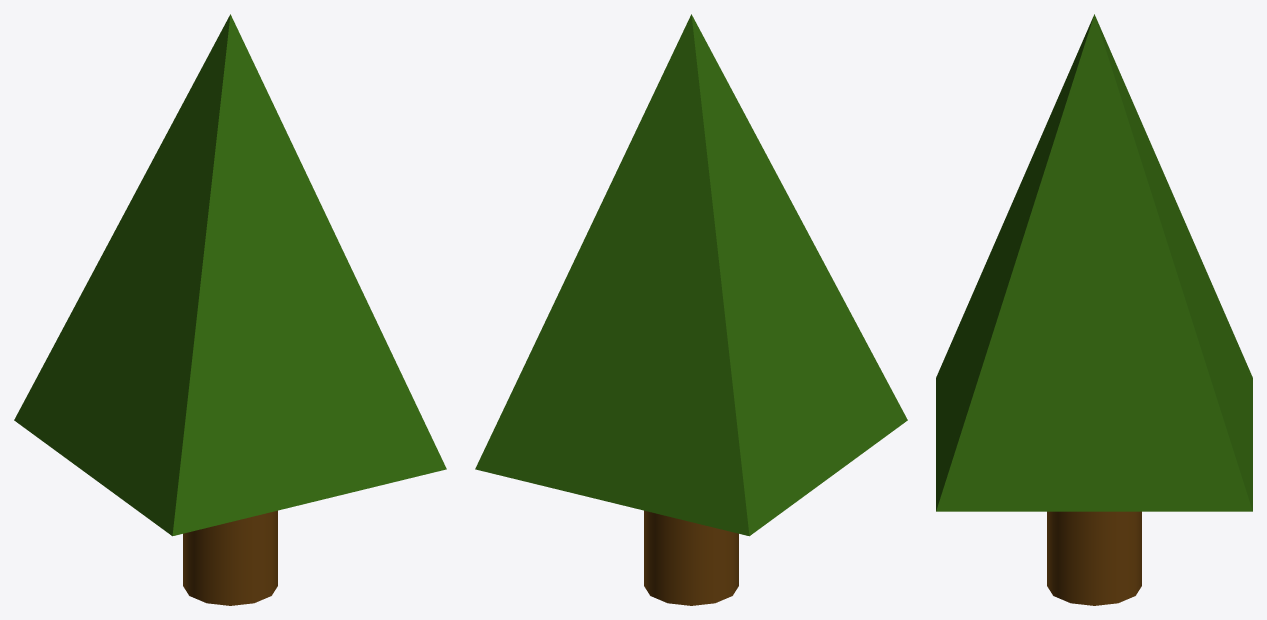
The model's file is tree.FBX.
3 renders of one model, left to right at view 1: azimuth 30°, elevation 25°; view 2: azimuth 150°, elevation 25°; view 3: azimuth 270°, elevation 25°, orthographic.
Parts seen in each view (by area): view 1: Box001; view 2: Box001; view 3: Box001.
Boxes of the visible parts, <box> form: Box001: <box>14,14,446,605</box>; Box001: <box>475,14,907,605</box>; Box001: <box>936,14,1252,605</box>.
Size of the model in its own units: 40 by 79.64 by 40.
1 material, 1 textured.
